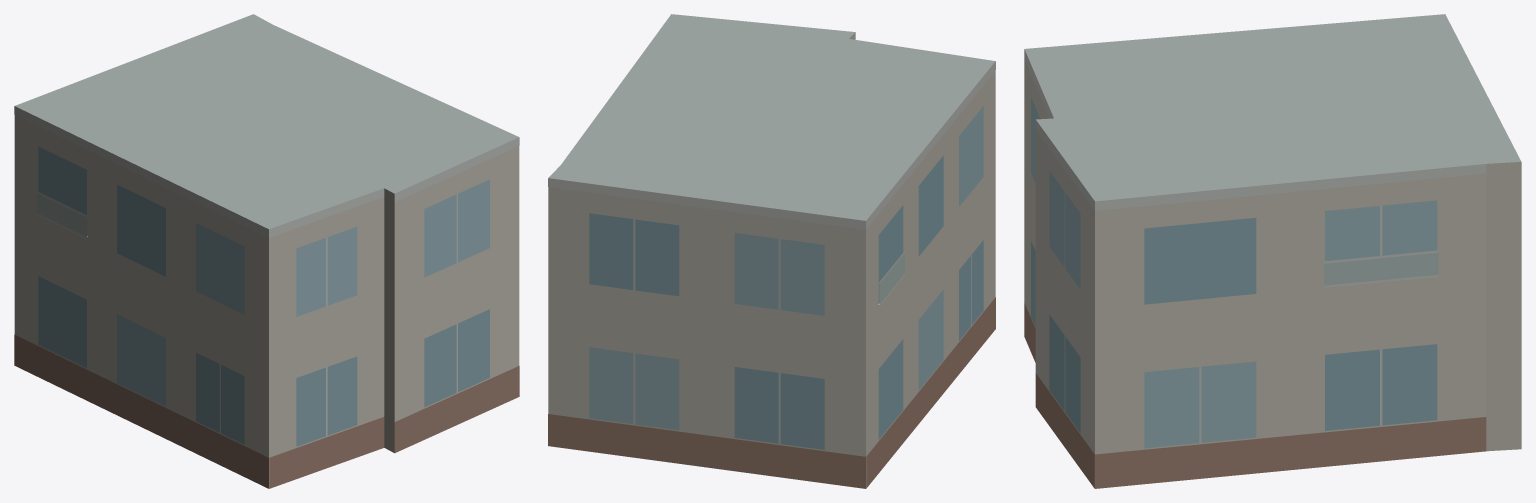
File: survey-upis-32490895.glb
3 renders of one model, left to right at view 1: azimuth 30°, elevation 25°; view 2: azimuth 150°, elevation 25°; view 3: azimuth 270°, elevation 25°, orthographic. The views are drawn at different scales.
Parts seen in each view (by area): view 1: survey-upis-32490895.tmp; view 2: survey-upis-32490895.tmp; view 3: survey-upis-32490895.tmp.
Part boxes in pixels (<box>): survey-upis-32490895.tmp: <box>14,14,519,488</box>; survey-upis-32490895.tmp: <box>548,14,995,488</box>; survey-upis-32490895.tmp: <box>1024,14,1521,488</box>.
Size of the model in its own units: 10.22 by 7.3 by 11.46.
